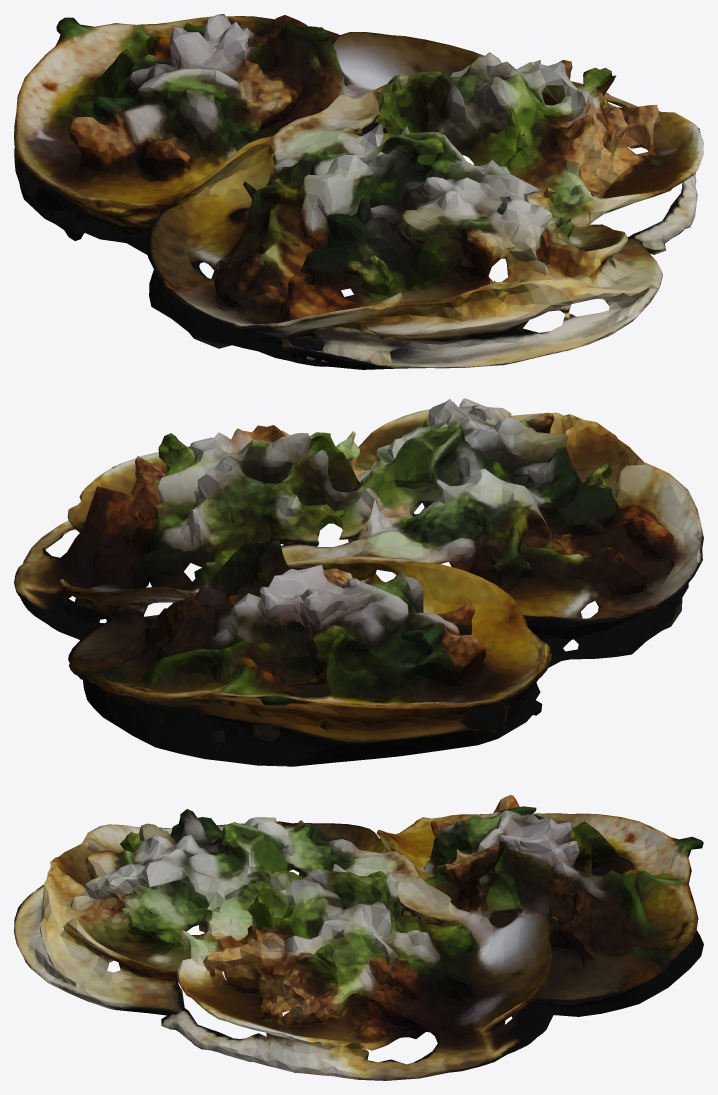
Rendered from tacos-birria.glb.
3 views of the same model, one above another, from view 1: azimuth 30°, elevation 25°; view 2: azimuth 150°, elevation 25°; view 3: azimuth 270°, elevation 25° (orthographic). The views are drawn at different scales.
Visible parts, largest first — view 1: world; view 2: world; view 3: world.
Boxes of the visible parts, x1,y1,x2,y2 form: world: [14, 14, 703, 369]; world: [14, 398, 703, 766]; world: [14, 795, 703, 1080].
Size of the model in its own units: 0.8069 by 0.2028 by 0.9922.
1 material, 1 textured.
